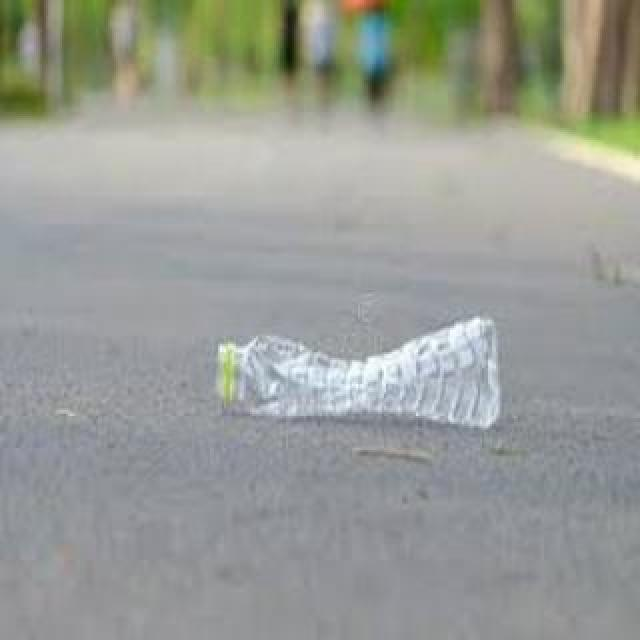Pet_Bottle: (209, 304, 509, 430)
